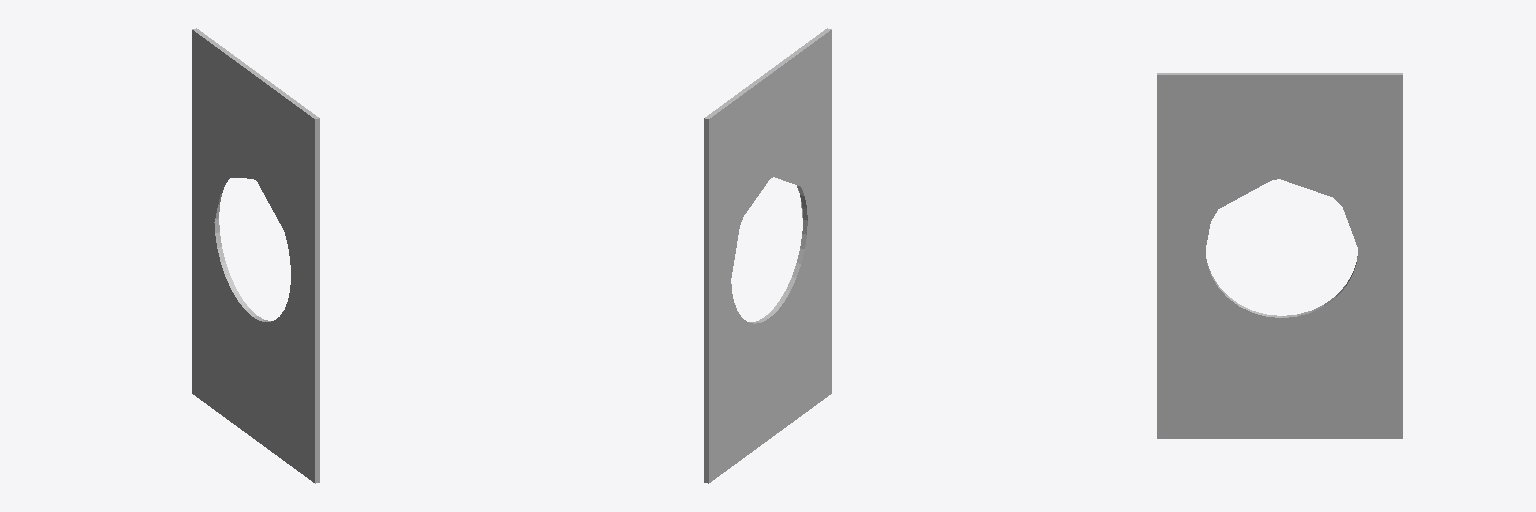
Rendered from WallWithAHole.obj.
3 renders of one model, left to right at view 1: azimuth 30°, elevation 25°; view 2: azimuth 150°, elevation 25°; view 3: azimuth 270°, elevation 25°, orthographic.
Visible parts, largest first — view 1: Cube.045_Cube.038; view 2: Cube.045_Cube.038; view 3: Cube.045_Cube.038.
Boxes of the visible parts, x1,y1,x2,y2 form: Cube.045_Cube.038: [192, 28, 319, 483]; Cube.045_Cube.038: [704, 28, 831, 483]; Cube.045_Cube.038: [1157, 73, 1402, 438].
Size of the model in its own units: 0.0715 by 5.24 by 3.2.